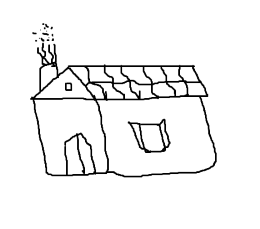door: (63, 133, 95, 175)
open_window: (128, 117, 171, 153)
roof: (28, 62, 214, 104)
smoking_chimney: (28, 21, 65, 91)
wall: (96, 94, 216, 181)
